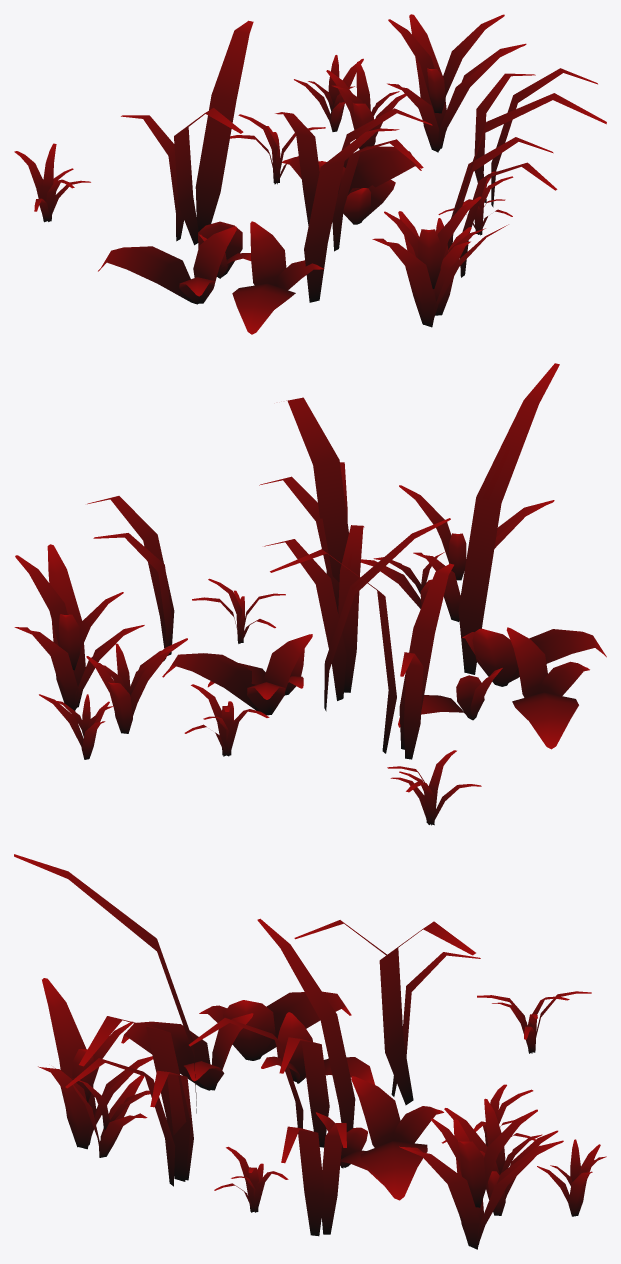
Rendered from grass_LOD0.fbx.
3 views of the same model, one above another, from view 1: azimuth 30°, elevation 25°; view 2: azimuth 150°, elevation 25°; view 3: azimuth 270°, elevation 25° (orthographic). The views are drawn at different scales.
Parts seen in each view (by area): view 1: Plane.011; view 2: Plane.011; view 3: Plane.011.
Boxes of the visible parts, x1,y1,x2,y2 form: Plane.011: (14,14,606,334); Plane.011: (14,363,606,825); Plane.011: (14,854,606,1249).
Size of the model in its own units: 9.85 by 4.67 by 9.67.
